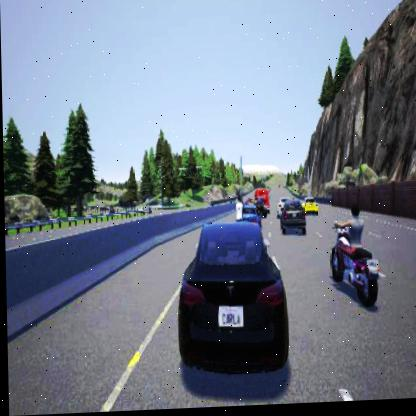motobike: (327, 203, 379, 311)
vehicle: (174, 220, 287, 377), (275, 199, 305, 240), (237, 203, 261, 234)
